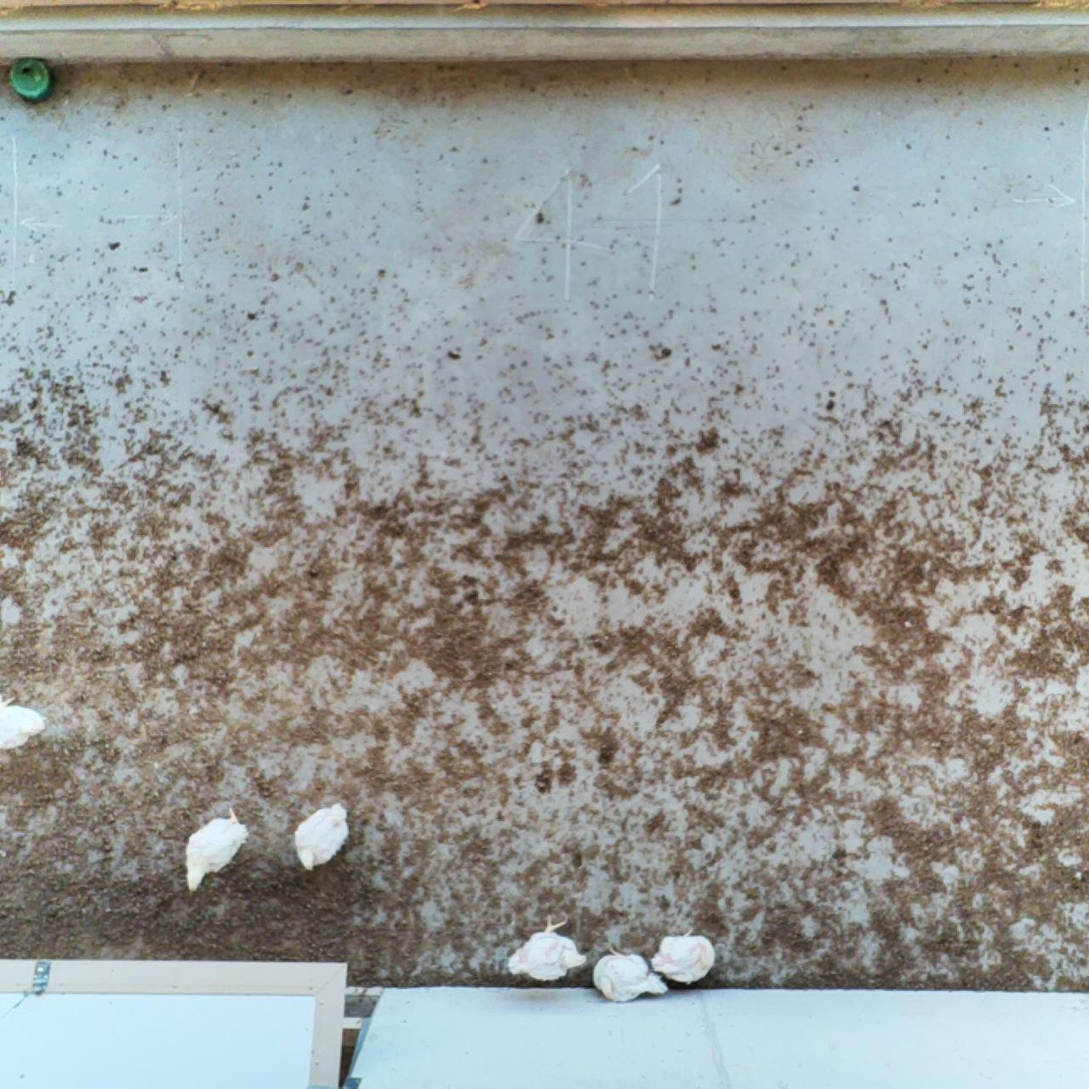chicken: (183, 807, 249, 892), (507, 915, 589, 983), (593, 944, 671, 1005), (293, 801, 350, 872), (652, 927, 718, 986), (0, 692, 46, 749)
